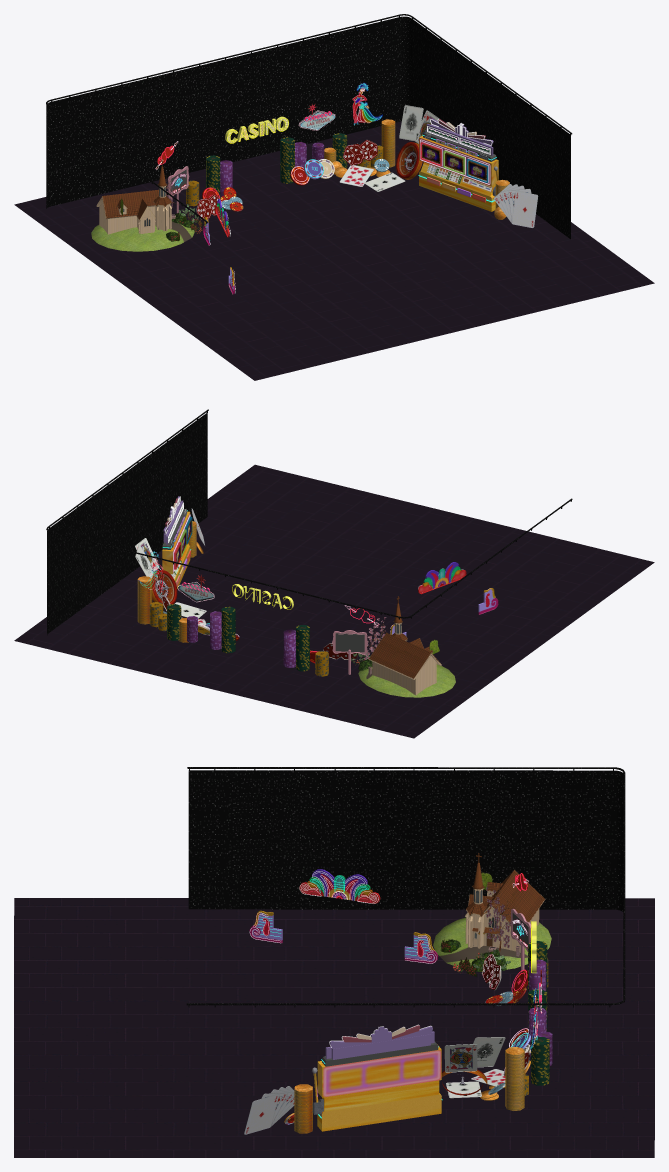
Rendered from wof_lv.glb.
3 views of the same model, one above another, from view 1: azimuth 30°, elevation 25°; view 2: azimuth 150°, elevation 25°; view 3: azimuth 270°, elevation 25° (orthographic). The views are drawn at different scales.
Visible parts, largest first — view 1: reflect_floorShape, backgroundShape, coinsShape:1, wedding_chapelShape, cardsShape:0, slot_machineShape:19, slot_machineShape:2, casinoShape, slot_machineShape:20, rouletteShape, cardsShape:3, ShowgirlShape:0 (+2 smaller); view 2: reflect_floorShape, backgroundShape, coinsShape:1, wedding_chapelShape, puzzleboard_design_panelShape:0, rouletteShape, treesShape:1, wedding_chapel_signShape:3; view 3: reflect_floorShape, backgroundShape, coinsShape:1, wedding_chapelShape, slot_machineShape:19, slot_machineShape:2, slot_machineShape:20, puzzleboard_design_panelShape:0, puzzleboard_design_panelShape:1, cardsShape:0, treesShape:1, cardsShape:4 (+2 smaller).
Part boxes in pixels (x1,y1,x2,y2): reflect_floorShape: [14, 121, 654, 380]; backgroundShape: [46, 14, 572, 239]; coinsShape:1: [186, 119, 509, 219]; wedding_chapelShape: [91, 159, 194, 251]; cardsShape:0: [493, 184, 538, 227]; slot_machineShape:19: [419, 162, 495, 211]; slot_machineShape:2: [419, 135, 498, 186]; casinoShape: [225, 116, 288, 143]; slot_machineShape:20: [426, 118, 493, 155]; rouletteShape: [396, 142, 422, 179]; cardsShape:3: [399, 105, 423, 141]; ShowgirlShape:0: [352, 82, 382, 124]; reflect_floorShape: [14, 464, 654, 738]; backgroundShape: [46, 409, 572, 635]; coinsShape:1: [137, 521, 357, 676]; wedding_chapelShape: [358, 596, 455, 697]; puzzleboard_design_panelShape:0: [418, 562, 466, 594]; rouletteShape: [152, 570, 177, 607]; treesShape:1: [351, 617, 439, 665]; wedding_chapel_signShape:3: [335, 633, 364, 652]; reflect_floorShape: [14, 898, 654, 1157]; backgroundShape: [186, 767, 625, 1007]; coinsShape:1: [284, 941, 552, 1133]; wedding_chapelShape: [433, 853, 551, 969]; slot_machineShape:19: [317, 1080, 441, 1131]; slot_machineShape:2: [313, 1044, 441, 1102]; slot_machineShape:20: [325, 1026, 434, 1059]; puzzleboard_design_panelShape:0: [299, 869, 380, 903]; puzzleboard_design_panelShape:1: [249, 910, 438, 963]; cardsShape:0: [244, 1086, 294, 1134]; treesShape:1: [452, 872, 515, 973]; cardsShape:4: [444, 1044, 477, 1072].
Bounding box in the file's own units: 2881 × 803 × 3003.
Materials: 52 (52 with a texture image).
